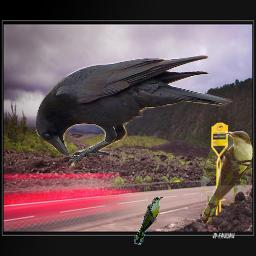Crow: (35, 55, 233, 171)
Cuckoo: (201, 131, 253, 225), (134, 197, 163, 245)
